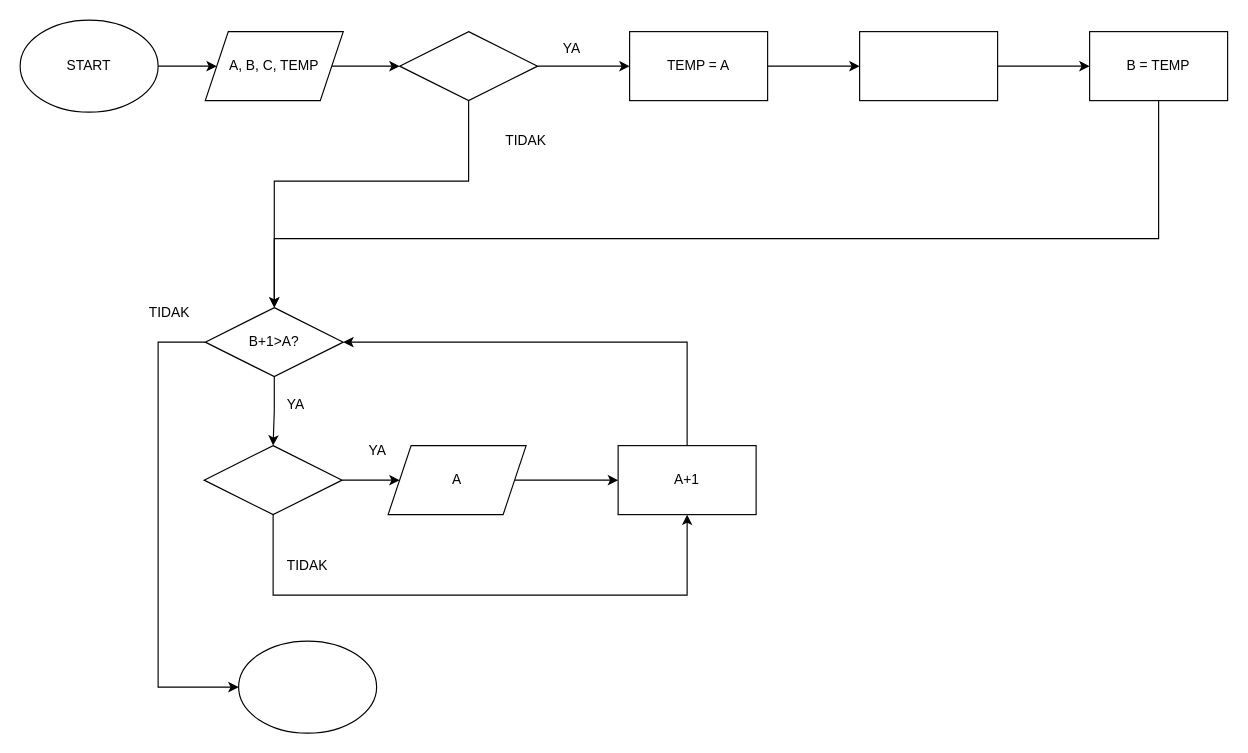
Some shapes in this 1248 by 753 pixel diagram are drawn without their labels. Each missing label, with the centre of its shape:
A = B: the point at 928,65
A%C = 0?: the point at 272,479
A>B?: the point at 468,65
FINISH: the point at 307,686
